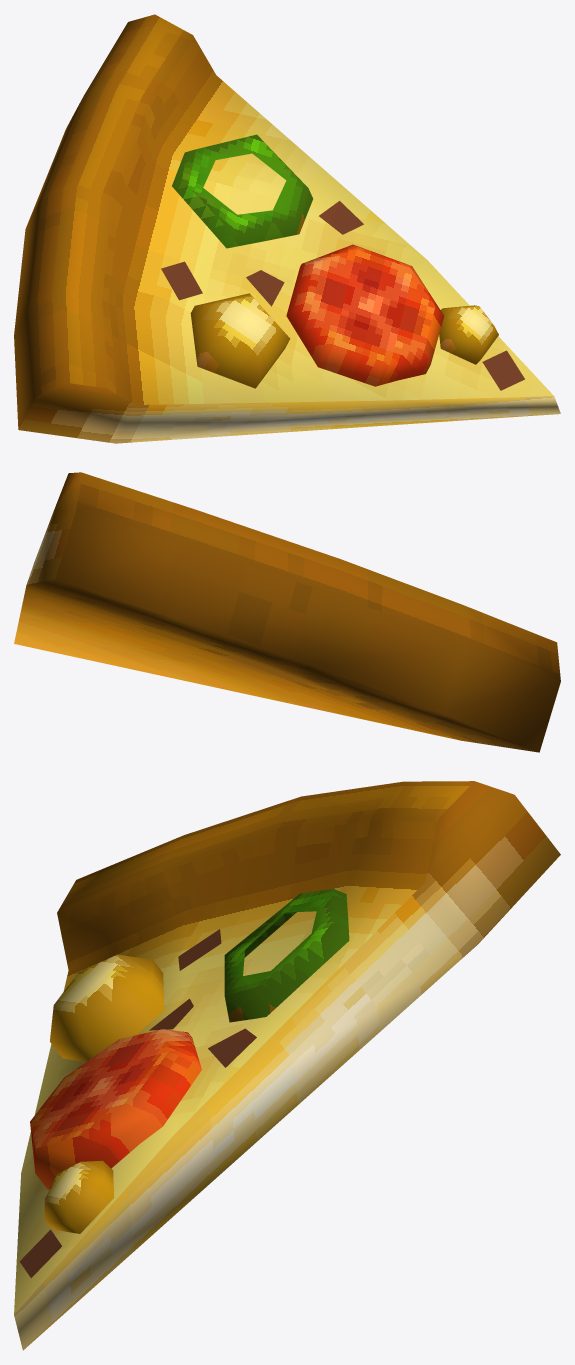
File: TopL.obj
3 views of the same model, one above another, from view 1: azimuth 30°, elevation 25°; view 2: azimuth 150°, elevation 25°; view 3: azimuth 270°, elevation 25° (orthographic). The views are drawn at different scales.
Visible parts, largest first — view 1: polygon0; view 2: polygon0; view 3: polygon0.
Boxes of the visible parts, x1=… form: polygon0: x1=14, y1=14, x2=560, y2=443; polygon0: x1=14, y1=472, x2=560, y2=752; polygon0: x1=14, y1=781, x2=560, y2=1350.
Size of the model in its own units: 1.07 by 0.6812 by 0.7966.
Materials: 1 (1 with a texture image).
